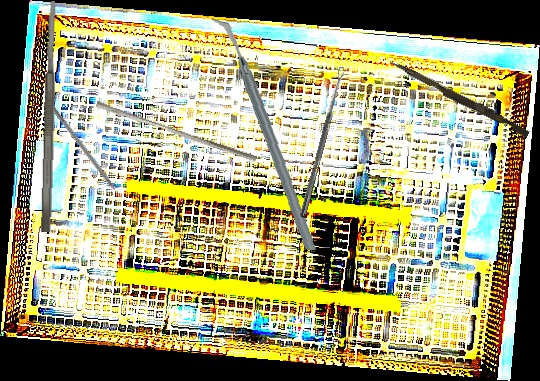Chopper: (197, 18, 330, 251)
Hook Surgical: (49, 105, 129, 207)
Pusher: (386, 59, 532, 138), (93, 100, 260, 163)
Spatula Surgical: (38, 0, 61, 233)
Surgical Spoon: (299, 66, 347, 219)
